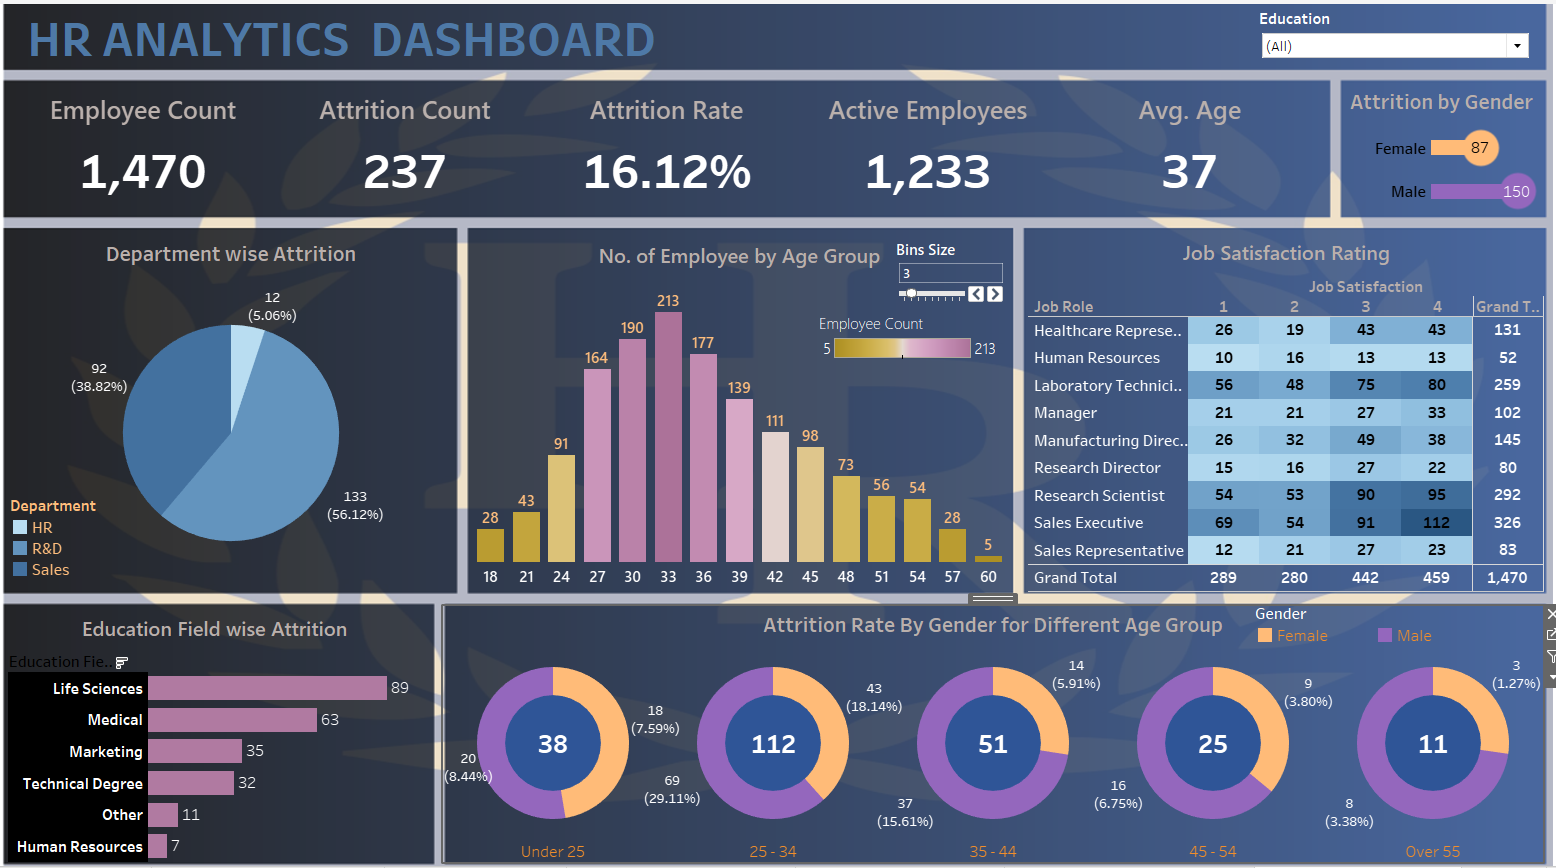

The dashboard page shown, as its layout file describes it:
{"tool":"tableau","page":{"name":"HR Analytics Dashboard","canvas":[1580,900],"ordinal":0},"visuals":[{"type":"image","param":"Image/HR background.pptx.png","box":[8,8,1564,884]},{"type":"filter","title":"Department wise Attrition","param":"[federated.1csncof0tsv26016rhzx80x4fx9a].[none:Education:nk]","box":[1274,24,273,54]},{"type":"text","box":[39,28,747,49]},{"type":"worksheet","title":"Attrition by Gender","mark":"Automatic","rows":["Gender"],"cols":["Calculation_1108448511125594112","Calculation_1108448511125594112"],"box":[1358,99,197,130]},{"type":"worksheet","title":"KPI","mark":"Automatic","box":[27,102,1309,126]},{"type":"worksheet","title":"Job Satisfaction Rating","mark":"Square","rows":["Job Role"],"cols":["Job Satisfaction"],"box":[1043,250,517,358]},{"type":"worksheet","title":"Department wise Attrition","mark":"Pie","box":[25,251,442,353]},{"type":"worksheet","title":"No. of Employee by Age Group","mark":"Automatic","rows":["Employee Count"],"cols":["Age (bin)"],"box":[488,253,533,349]},{"type":"parameter","param":"[Parameters].[Age Parameter]","box":[911,255,110,71]},{"type":"legend","title":"No. of Employee by Age Group","param":"[federated.1csncof0tsv26016rhzx80x4fx9a].[sum:Employee Count:qk]","box":[834,329,182,68]},{"type":"legend","title":"Department wise Attrition","param":"[federated.1csncof0tsv26016rhzx80x4fx9a].[none:Department:nk]","box":[25,511,122,91]},{"type":"legend","title":"Attrition Rate By Gender for Different Age Group","param":"[federated.1csncof0tsv26016rhzx80x4fx9a].[none:Gender:nk]","box":[1270,619,274,43]},{"type":"worksheet","title":"Attrition Rate By Gender for Different Age Group","mark":"Pie","rows":["Calculation_1834653957058535425","Calculation_1834653957058535425"],"cols":["CF_age band"],"box":[458,622,1100,256]},{"type":"worksheet","title":"Education Field wise Attrition ","mark":"Automatic","rows":["Education Field"],"cols":["Calculation_1108448511125594112"],"box":[23,626,419,252]}]}

Visuals, with their boxes in screenshot pixels (x1, y1, x2, y2), scaled from the page's 1580x900 canvas onto the 1556x868 screenshot:
image: 8:8:1548:860
"Department wise Attrition" filter: 1255:23:1524:75
text: 38:27:774:74
"Attrition by Gender" worksheet: 1337:95:1531:221
"KPI" worksheet: 27:98:1316:220
"Job Satisfaction Rating" worksheet (Square marks): 1027:241:1536:586
"Department wise Attrition" worksheet (Pie marks): 25:242:460:583
"No. of Employee by Age Group" worksheet: 481:244:1005:581
parameter: 897:246:1005:314
"No. of Employee by Age Group" legend: 821:317:1001:383
"Department wise Attrition" legend: 25:493:145:581
"Attrition Rate By Gender for Different Age Group" legend: 1251:597:1521:638
"Attrition Rate By Gender for Different Age Group" worksheet (Pie marks): 451:600:1534:847
"Education Field wise Attrition " worksheet: 23:604:435:847
